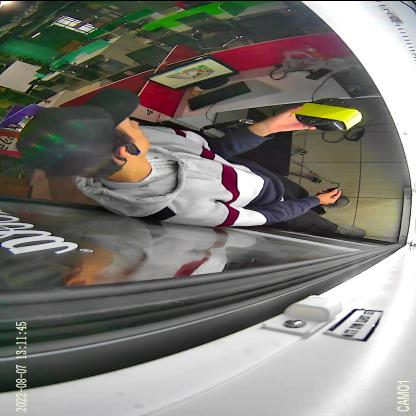yellow: (292, 97, 364, 131)
